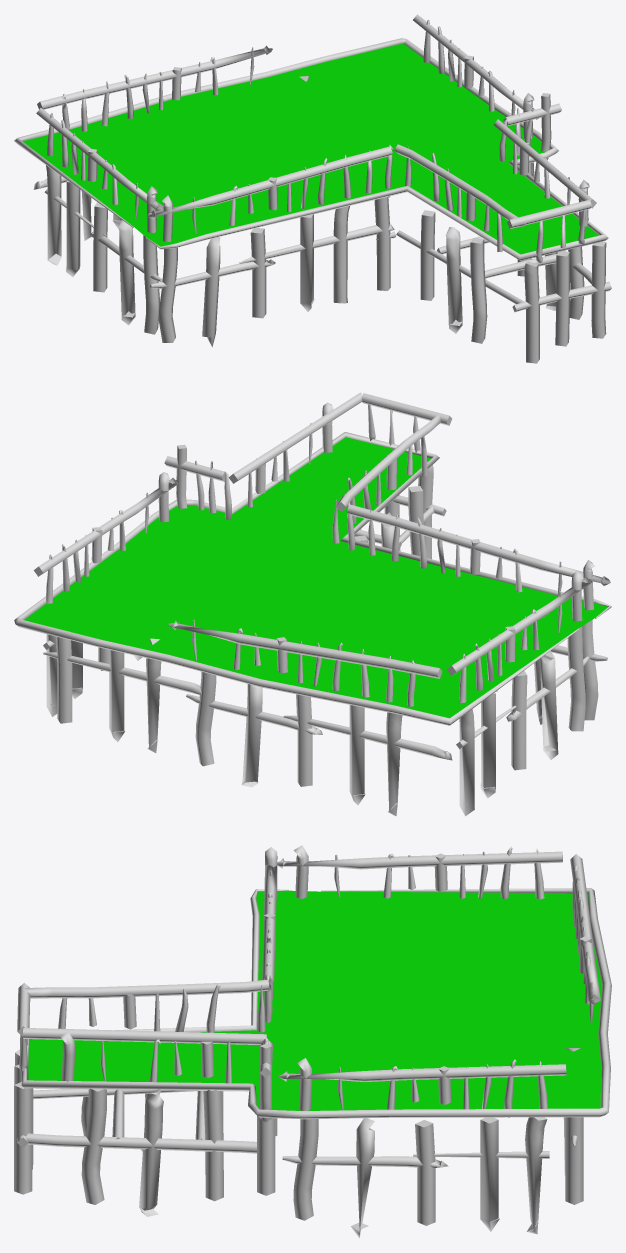
The model's file is stilt2.fbx.
The picture shows the model from 3 angles, top to bottom: view 1: azimuth 30°, elevation 25°; view 2: azimuth 150°, elevation 25°; view 3: azimuth 270°, elevation 25°; orthographic projection. The views are drawn at different scales.
Visible parts, largest first — view 1: GP_Layer.003; view 2: GP_Layer.003; view 3: GP_Layer.003.
Boxes of the visible parts, <box> form: GP_Layer.003: <box>14,14,611,363</box>; GP_Layer.003: <box>14,392,611,816</box>; GP_Layer.003: <box>14,845,611,1238</box>.
Bounding box in the file's own units: 715 × 289 × 782.
